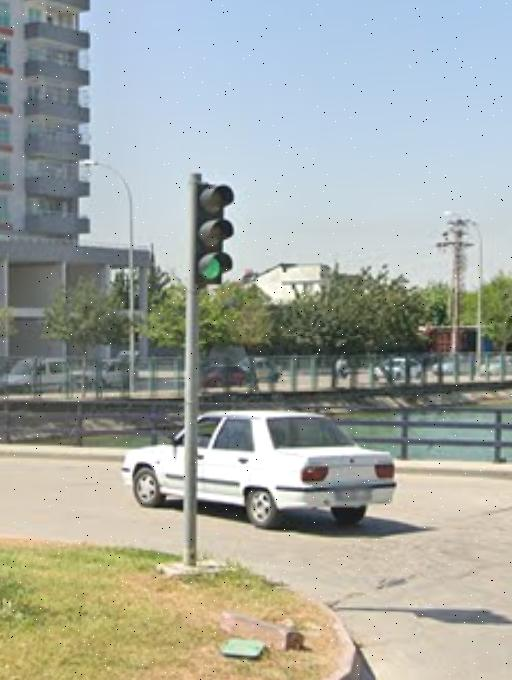greenlight: (191, 175, 235, 292)
